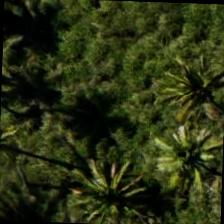Kelapa_Sawit: (134, 114, 223, 208), (64, 138, 158, 223), (0, 84, 57, 177)
